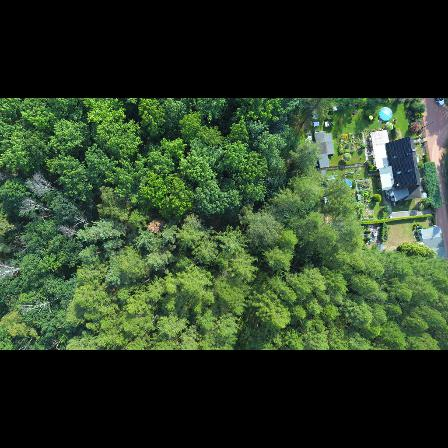Dead: (17, 293, 61, 315), (25, 172, 67, 195), (17, 198, 56, 222), (0, 261, 23, 280)
